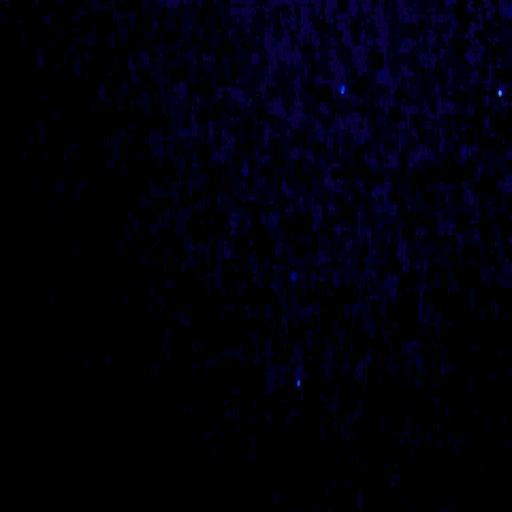object-detection-project: (340, 84, 346, 94), (243, 164, 248, 176), (498, 91, 502, 97)
